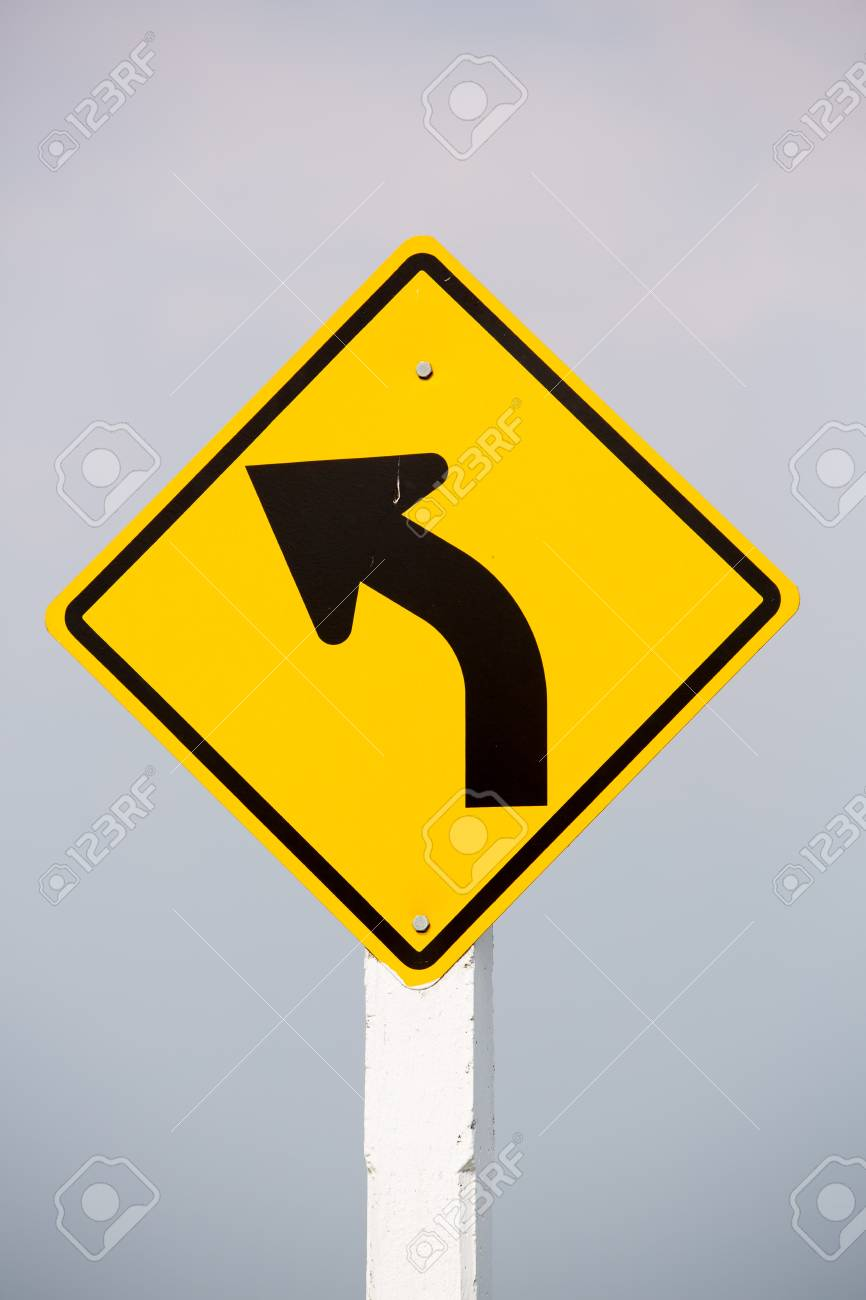left: (41, 229, 811, 1000)
